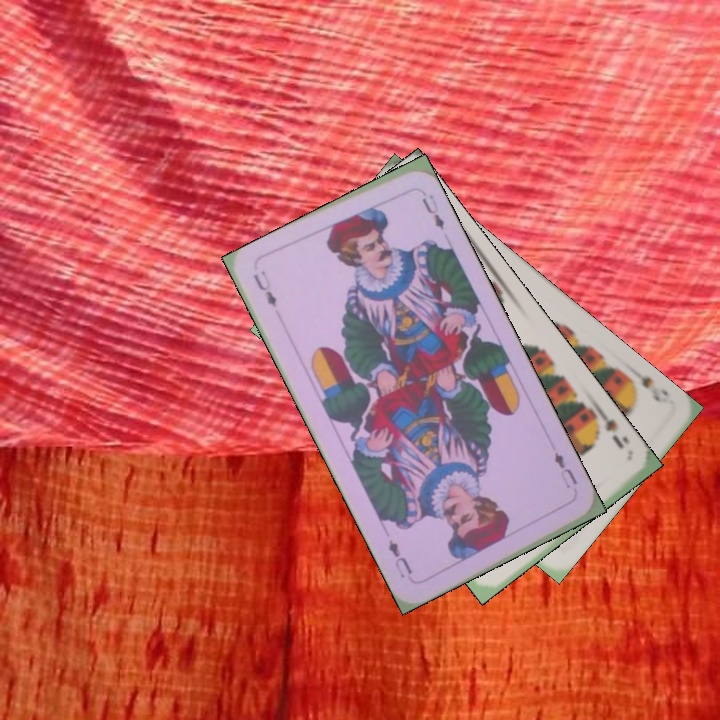EU: (249, 267, 280, 310), (550, 448, 580, 491)
S9: (586, 405, 632, 452), (625, 362, 671, 407)
